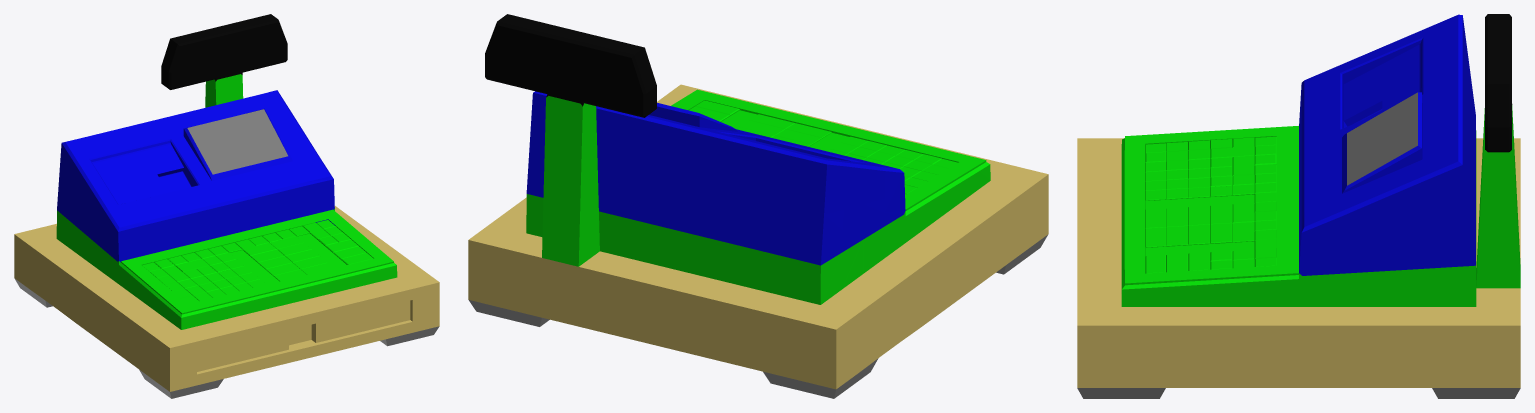
The model's file is Cash_Register.fbx.
The picture shows the model from 3 angles, left to right: view 1: azimuth 30°, elevation 25°; view 2: azimuth 150°, elevation 25°; view 3: azimuth 270°, elevation 25°; orthographic projection. The views are drawn at different scales.
Visible parts, largest first — view 1: pCube1; view 2: pCube1; view 3: pCube1.
Boxes of the visible parts, x1,y1,x2,y2 form: pCube1: [14, 14, 439, 398]; pCube1: [468, 14, 1048, 398]; pCube1: [1077, 14, 1520, 398].
Size of the model in its own units: 2.41 by 1.87 by 2.41.
